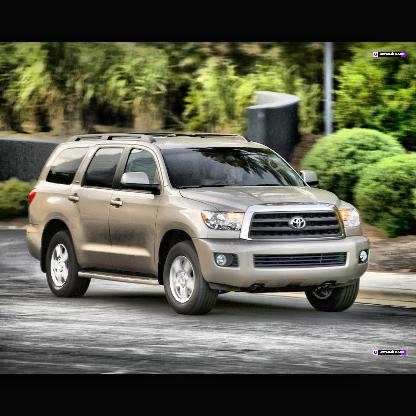Toyota Sequoia SUV 2012: (26, 130, 375, 316)
